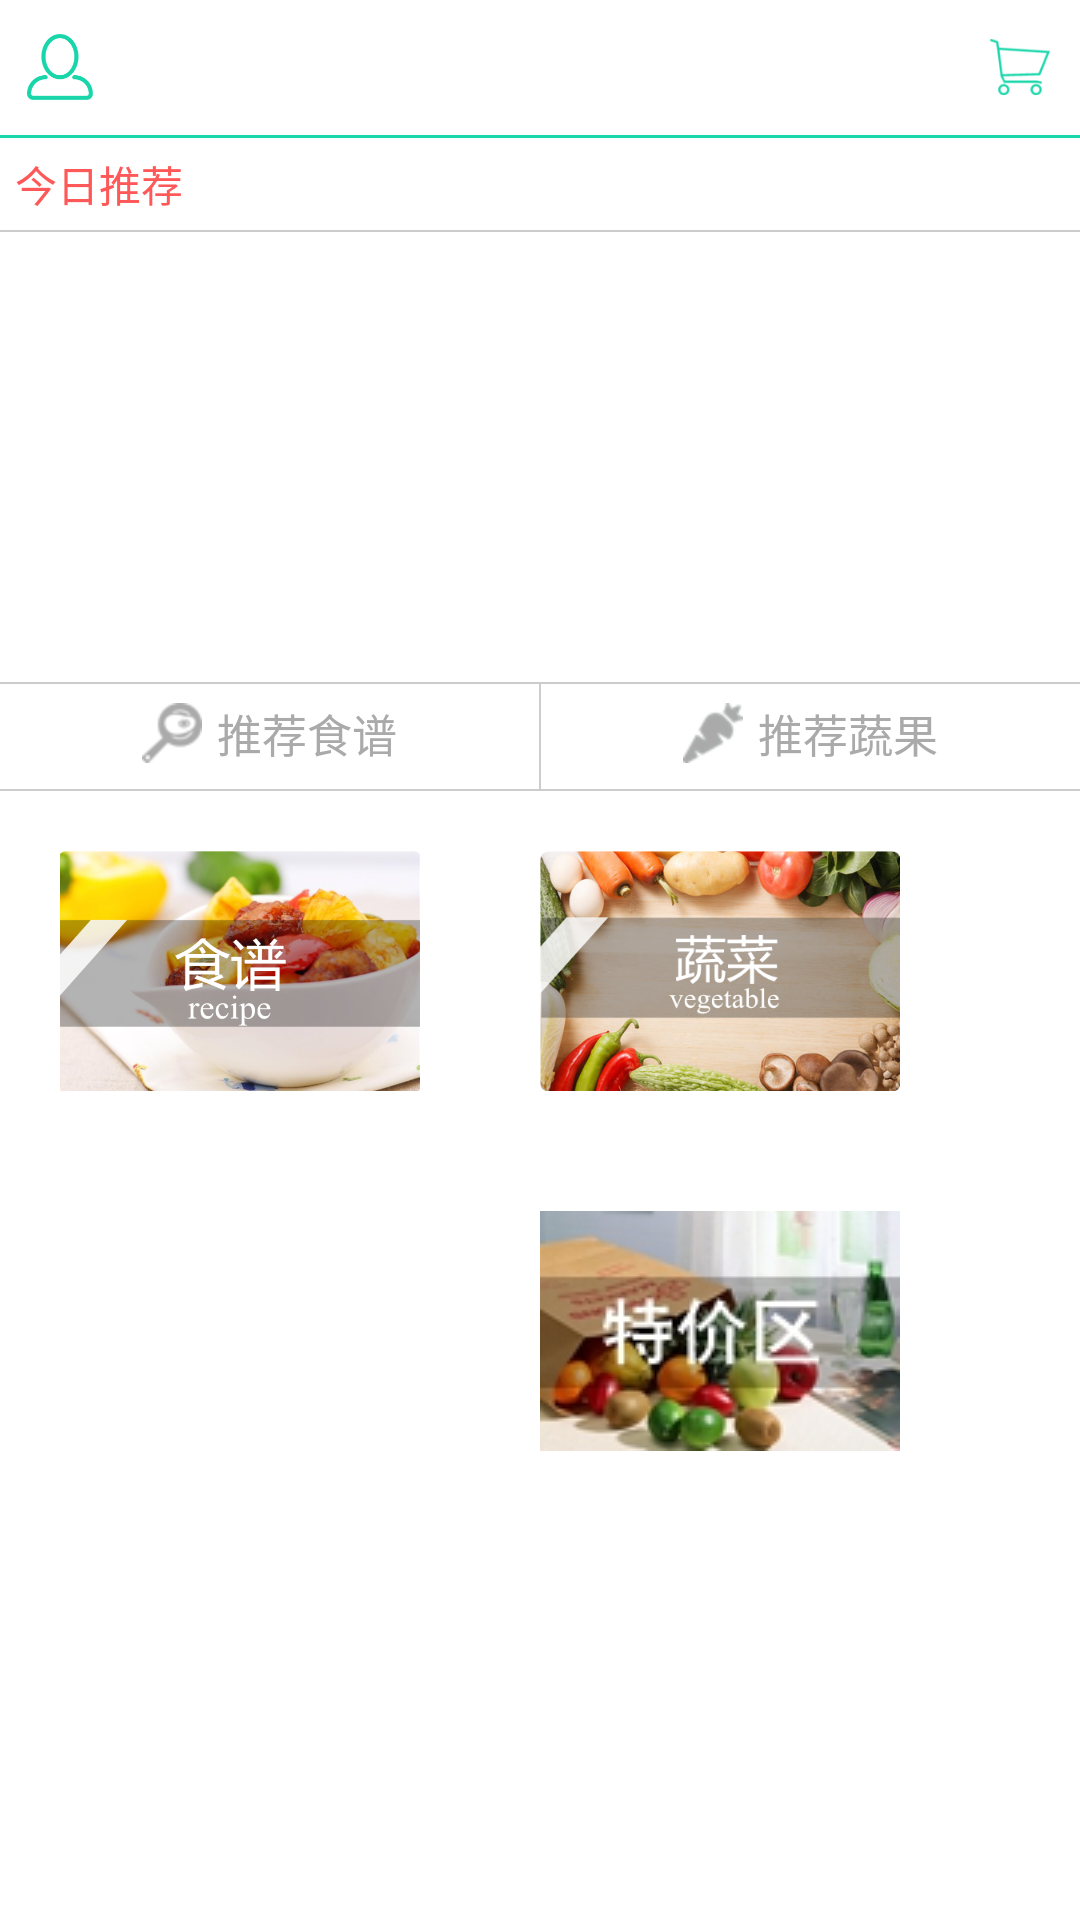

Icons on this 1080 x 1920 Android screen, each with its box as (x1, y1, x2, y2):
shoppingcart: (990, 39, 1050, 95)
user: (27, 34, 93, 100)
